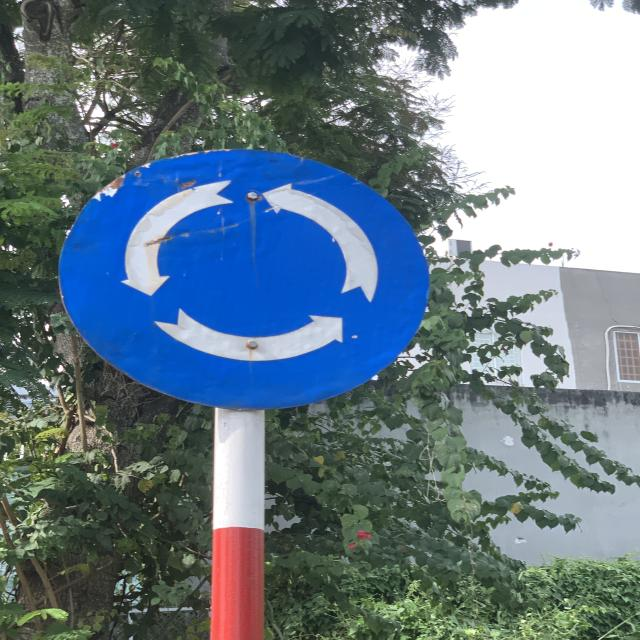Xe_Bus: (59, 147, 434, 416)
